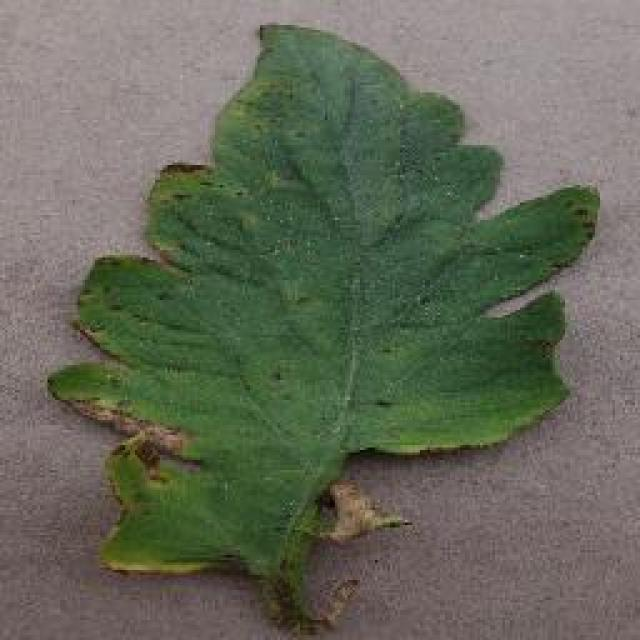Tomato___Bacterial_spot: (41, 23, 606, 637)
